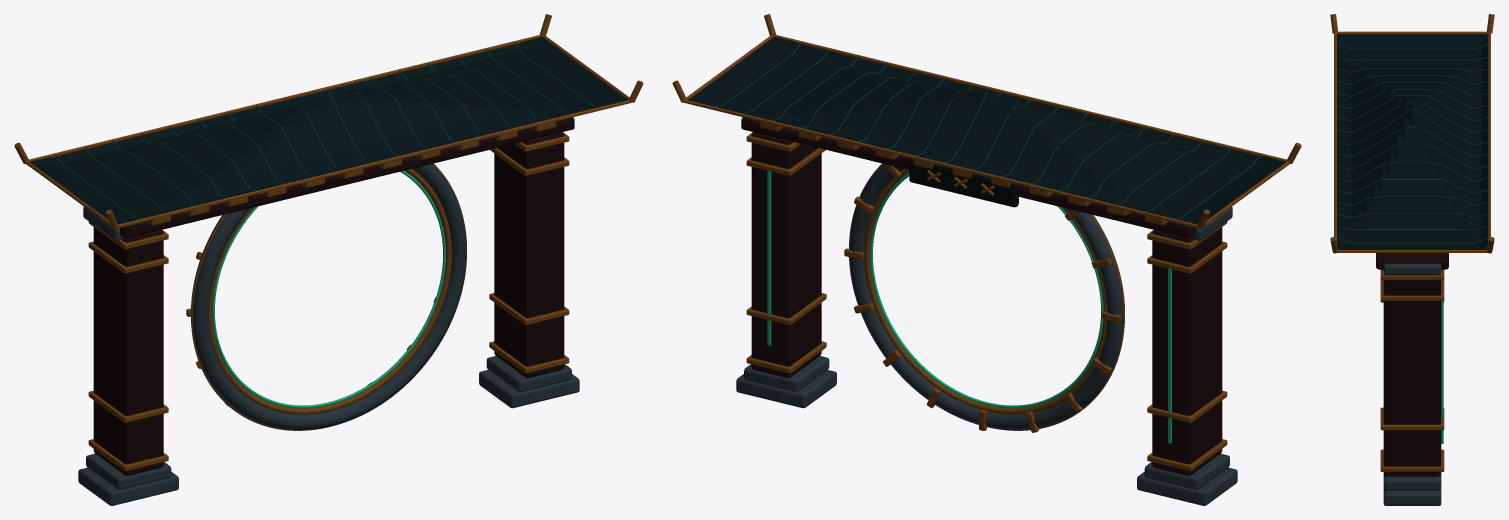
Rendered from SM_JA_MoonGate.fbx.
3 views of the same model, side by side, from view 1: azimuth 30°, elevation 25°; view 2: azimuth 150°, elevation 25°; view 3: azimuth 270°, elevation 25° (orthographic). The views are drawn at different scales.
Parts seen in each view (by area): view 1: SM_JA_MoonGate; view 2: SM_JA_MoonGate; view 3: SM_JA_MoonGate.
Part boxes in pixels (x1,y1,x2,y2): SM_JA_MoonGate: (14, 14, 643, 505); SM_JA_MoonGate: (672, 14, 1301, 505); SM_JA_MoonGate: (1330, 14, 1494, 505).
Bounding box in the file's own units: 13.93 × 4.27 × 8.59.
